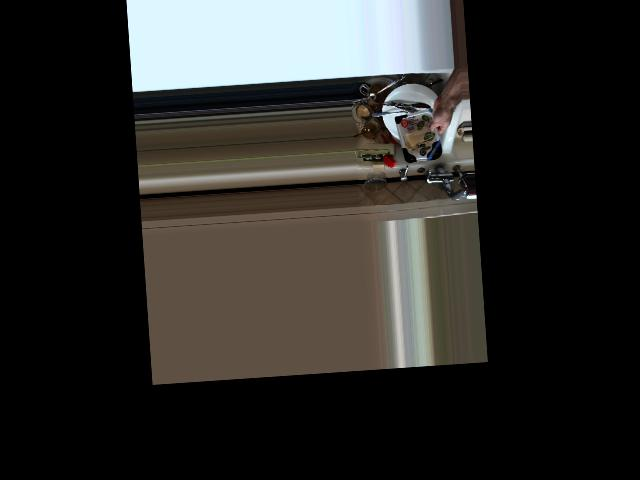cheese: (395, 99, 455, 167)
